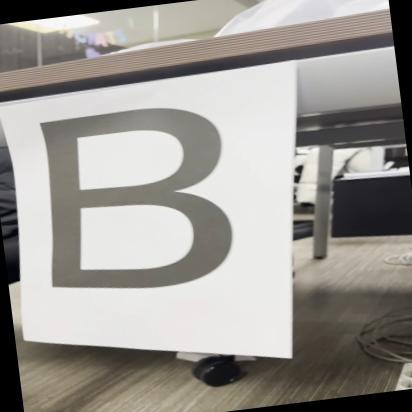seat: (7, 89, 249, 316)
